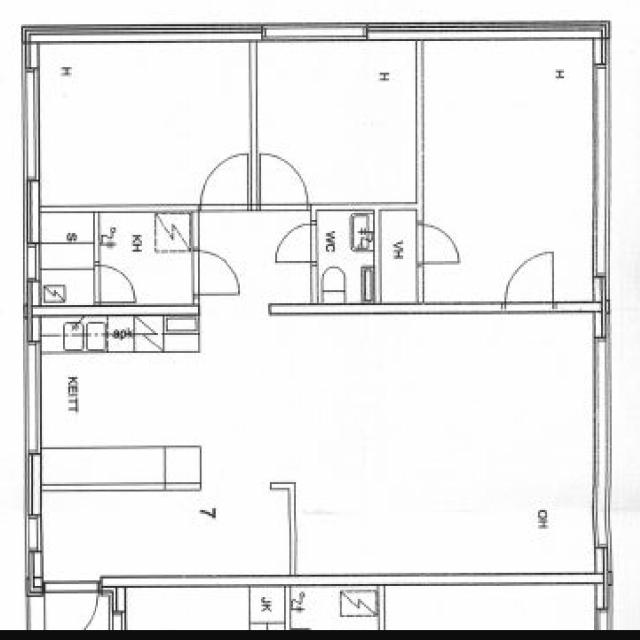door: (44, 581, 99, 640), (504, 253, 552, 313), (260, 154, 307, 209), (200, 154, 246, 209), (192, 253, 239, 295), (416, 226, 459, 264), (276, 224, 316, 262), (93, 266, 133, 303)
